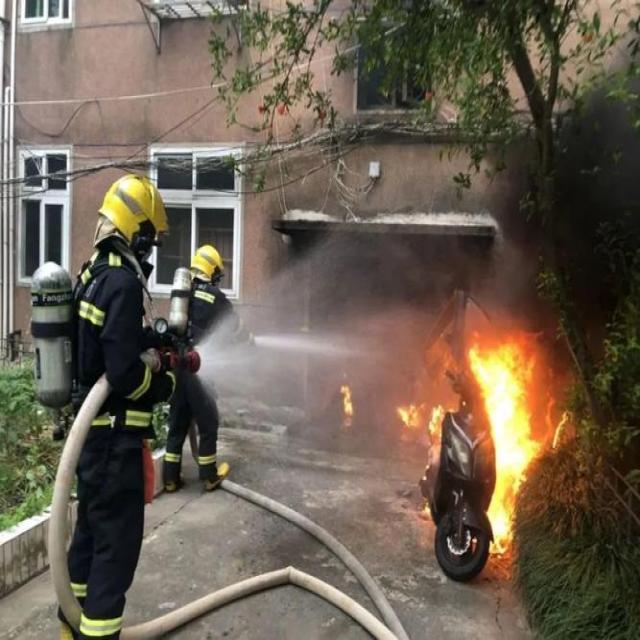Fire: (470, 342, 546, 557), (336, 378, 354, 414), (396, 402, 418, 430), (426, 406, 444, 438)
